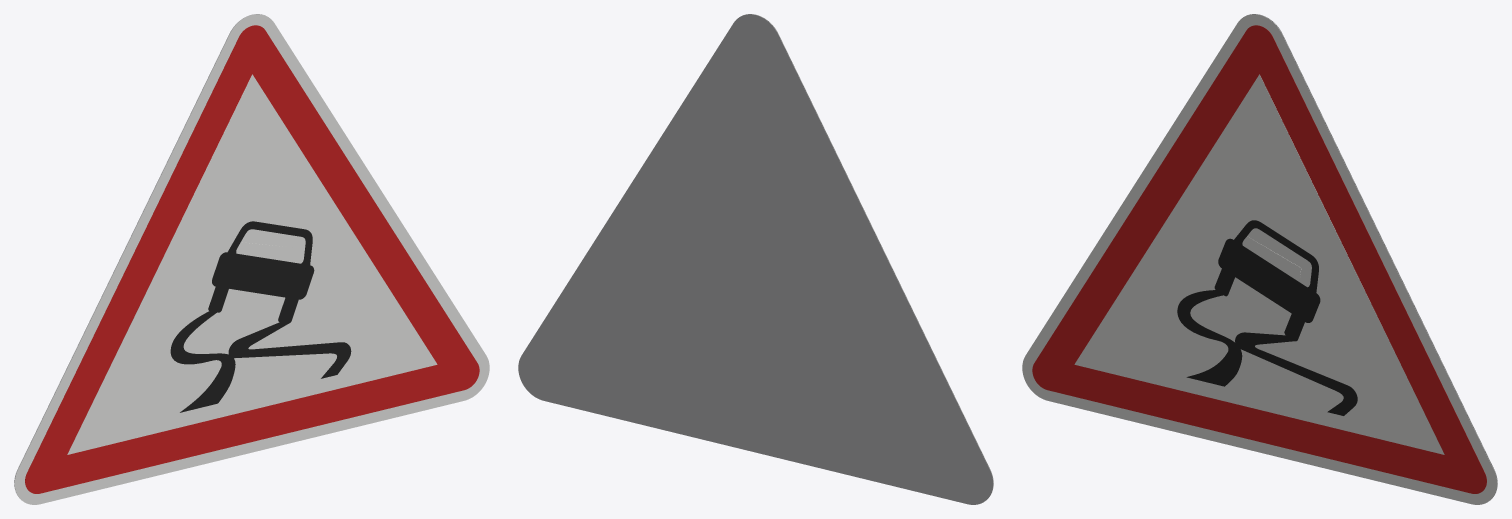
The picture shows the model from 3 angles, left to right: view 1: azimuth 30°, elevation 25°; view 2: azimuth 150°, elevation 25°; view 3: azimuth 330°, elevation 25°; orthographic projection.
Parts seen in each view (by area): view 1: A4_p02, A4_p01, A4_p00, A4_p06, A4_p04, A4_p05, A4_p03, A4_dos; view 2: A4_dos, A4_p00; view 3: A4_p02, A4_p01, A4_p00, A4_p06, A4_p04, A4_p05, A4_p03, A4_dos.
Boxes of the visible parts, x1,y1,x2,y2 form: A4_p02: (67,74,437,454); A4_p01: (25,25,479,493); A4_p00: (14,14,489,504); A4_p06: (208,221,314,323); A4_p04: (170,311,235,412); A4_p05: (228,322,351,378); A4_p03: (236,242,294,262); A4_dos: (14,14,265,500); A4_dos: (518,14,993,504); A4_p00: (742,14,993,500); A4_p02: (1074,74,1444,454); A4_p01: (1032,25,1486,493); A4_p00: (1022,14,1497,504); A4_p06: (1214,220,1320,341); A4_p04: (1177,290,1242,386); A4_p05: (1235,332,1357,415); A4_p03: (1242,236,1301,281); A4_dos: (1246,14,1497,500).
Size of the model in its own units: 1 by 0.8803 by 0.0043.
